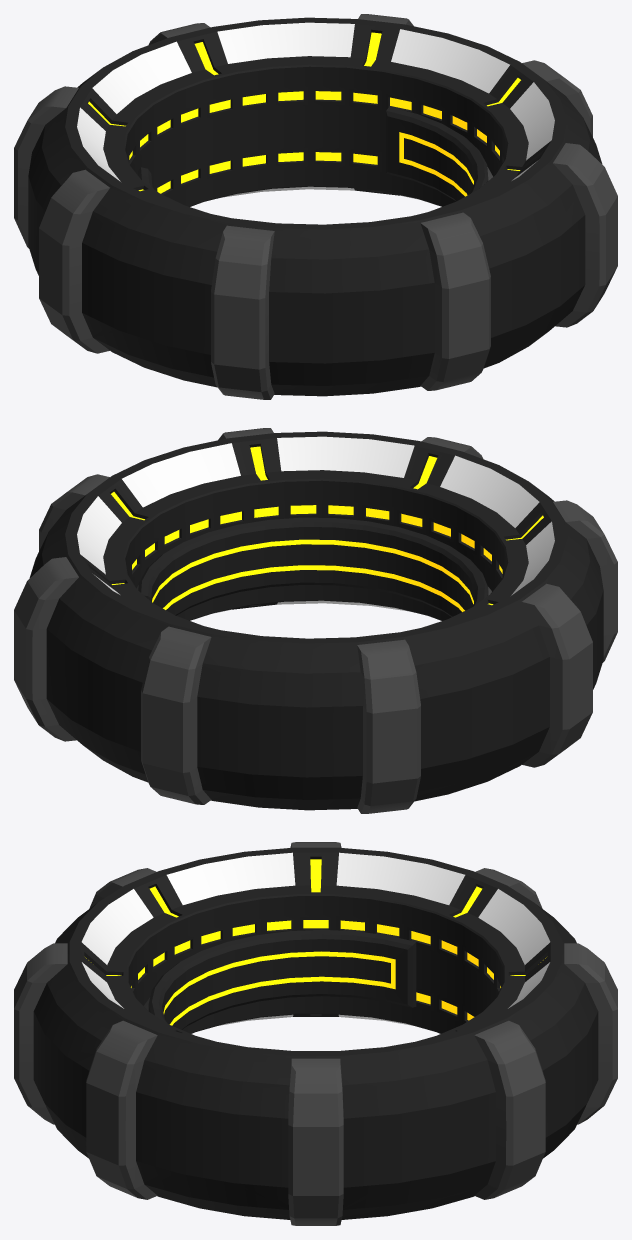
Rendered from 01_gantry_forge.glb.
3 views of the same model, one above another, from view 1: azimuth 30°, elevation 25°; view 2: azimuth 150°, elevation 25°; view 3: azimuth 270°, elevation 25° (orthographic).
Parts seen in each view (by area): view 1: 01_gantry_forge, 01_gantry_forge_ring, 01_gantry_forge.004, 01_gantry_forge.003, 01_gantry_forge.002, 01_gantry_forge.001; view 2: 01_gantry_forge, 01_gantry_forge_ring, 01_gantry_forge.004, 01_gantry_forge.002, 01_gantry_forge.003, 01_gantry_forge.001; view 3: 01_gantry_forge, 01_gantry_forge_ring, 01_gantry_forge.004, 01_gantry_forge.002, 01_gantry_forge.003.
Boxes of the visible parts, box(x1,y1,x2,y2) form: 01_gantry_forge: box(14, 14, 617, 399); 01_gantry_forge_ring: box(138, 106, 492, 201); 01_gantry_forge.004: box(149, 24, 487, 323); 01_gantry_forge.003: box(55, 96, 617, 251); 01_gantry_forge.002: box(211, 20, 413, 333); 01_gantry_forge.001: box(69, 61, 590, 280); 01_gantry_forge: box(14, 428, 617, 813); 01_gantry_forge_ring: box(136, 517, 491, 616); 01_gantry_forge.004: box(141, 437, 482, 737); 01_gantry_forge.002: box(26, 500, 603, 665); 01_gantry_forge.003: box(218, 430, 415, 747); 01_gantry_forge.001: box(41, 474, 562, 694); 01_gantry_forge: box(14, 842, 617, 1225); 01_gantry_forge_ring: box(144, 929, 416, 1029); 01_gantry_forge.004: box(27, 943, 617, 1045); 01_gantry_forge.002: box(89, 868, 545, 1130); 01_gantry_forge.003: box(86, 868, 542, 1125).
Size of the model in its own units: 1.07 by 0.3211 by 1.07.
